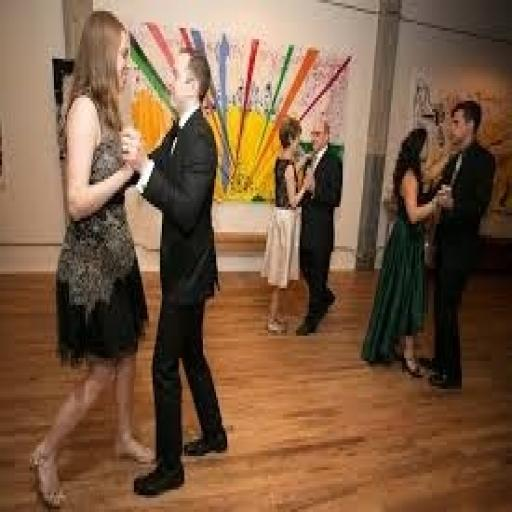dancing: (119, 48, 231, 500)
